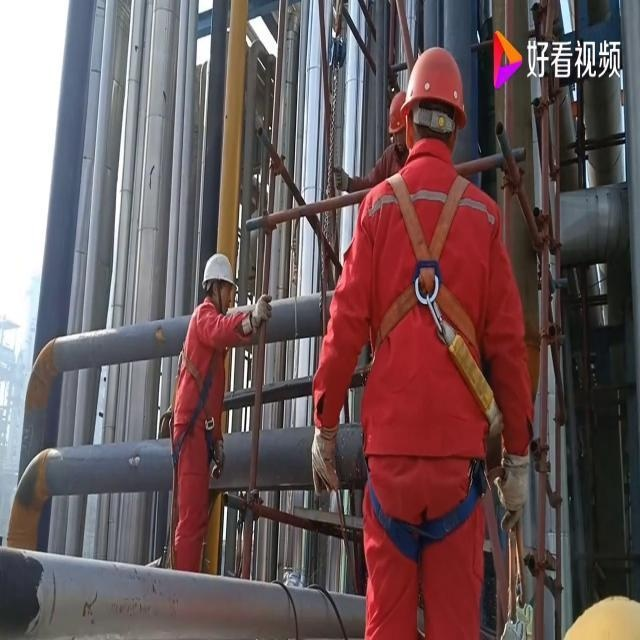Arnes_seguridad: (362, 158, 490, 403), (167, 301, 226, 476)
